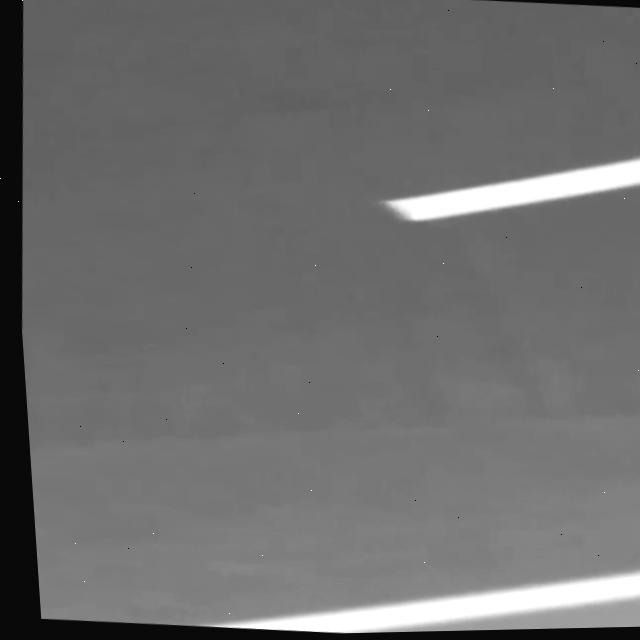center: (381, 157, 640, 221)
left: (200, 570, 640, 633)
